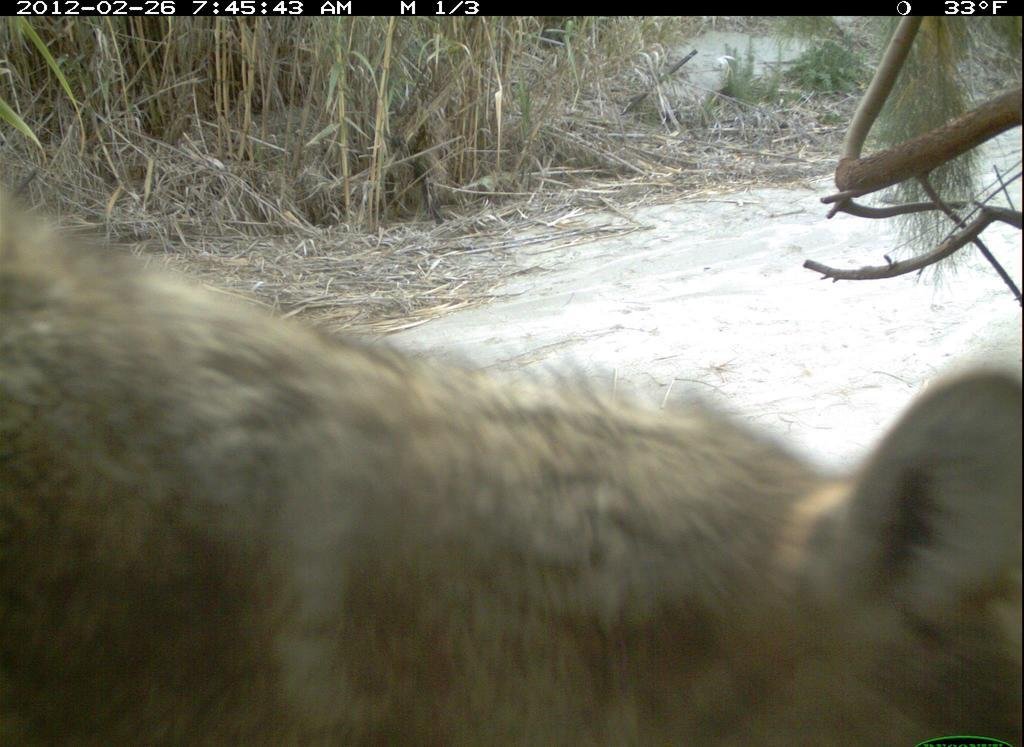coyote: (2, 180, 1022, 747)
